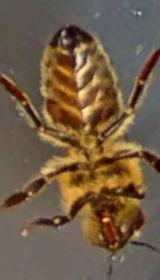varroa_mite: (38, 94, 68, 124)
